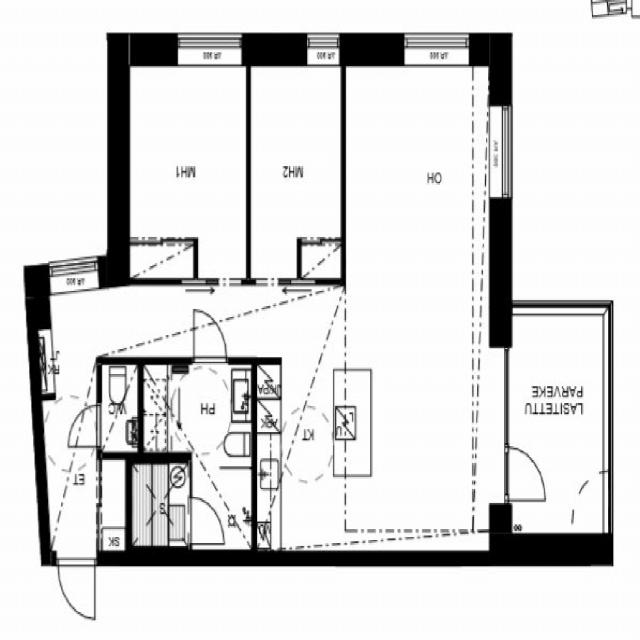door: (488, 445, 550, 500), (57, 550, 95, 620), (193, 309, 226, 364), (187, 496, 224, 544), (69, 405, 102, 446)
